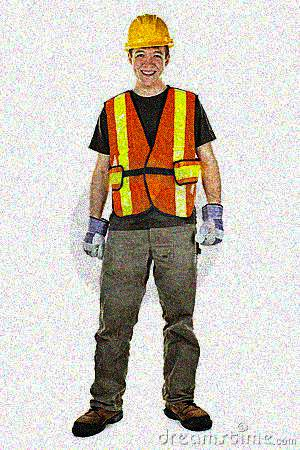helmet: (123, 14, 175, 86)
